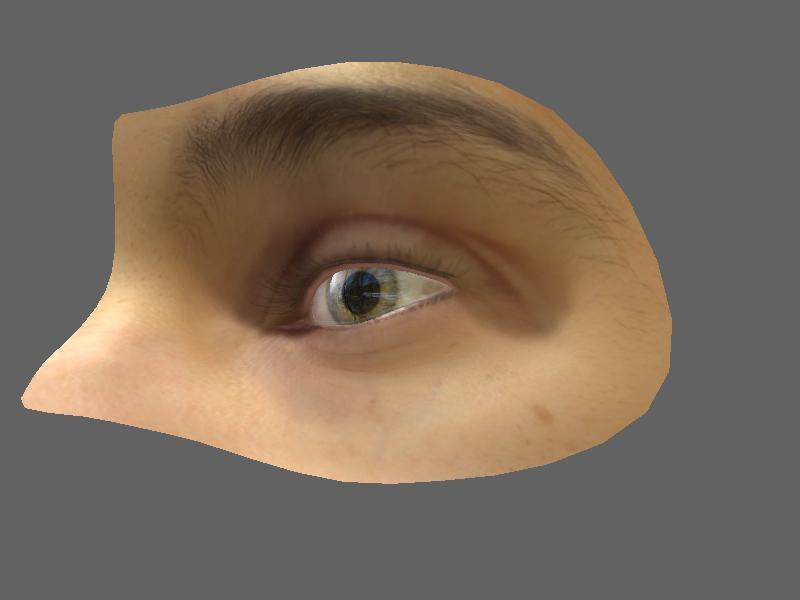iris: (323, 271, 410, 323)
